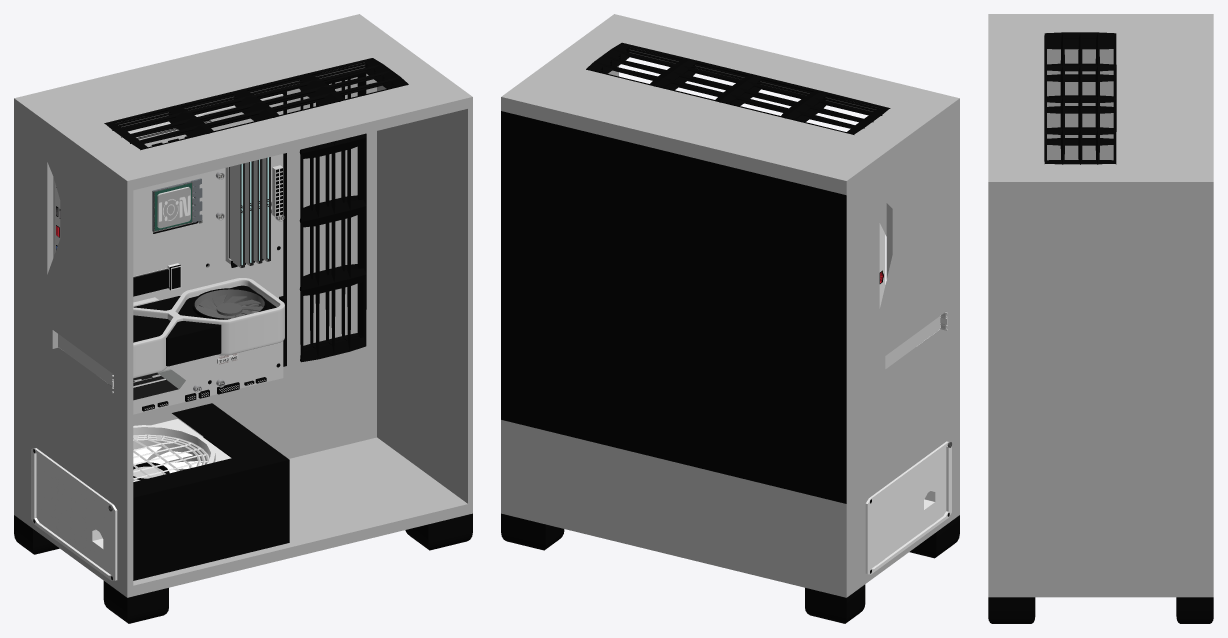
File: tanpa fan cooler 2.fbx
3 renders of one model, left to right at view 1: azimuth 30°, elevation 25°; view 2: azimuth 150°, elevation 25°; view 3: azimuth 270°, elevation 25°, orthographic.
Parts seen in each view (by area): view 1: Plane.014; view 2: Plane.014; view 3: Plane.014.
Boxes of the visible parts, x1=… form: Plane.014: x1=14, y1=14, x2=472, y2=623; Plane.014: x1=501, y1=14, x2=959, y2=623; Plane.014: x1=988, y1=14, x2=1213, y2=623.
Size of the model in its own units: 290 by 356 by 163.
Materials: 148 (25 with a texture image).
